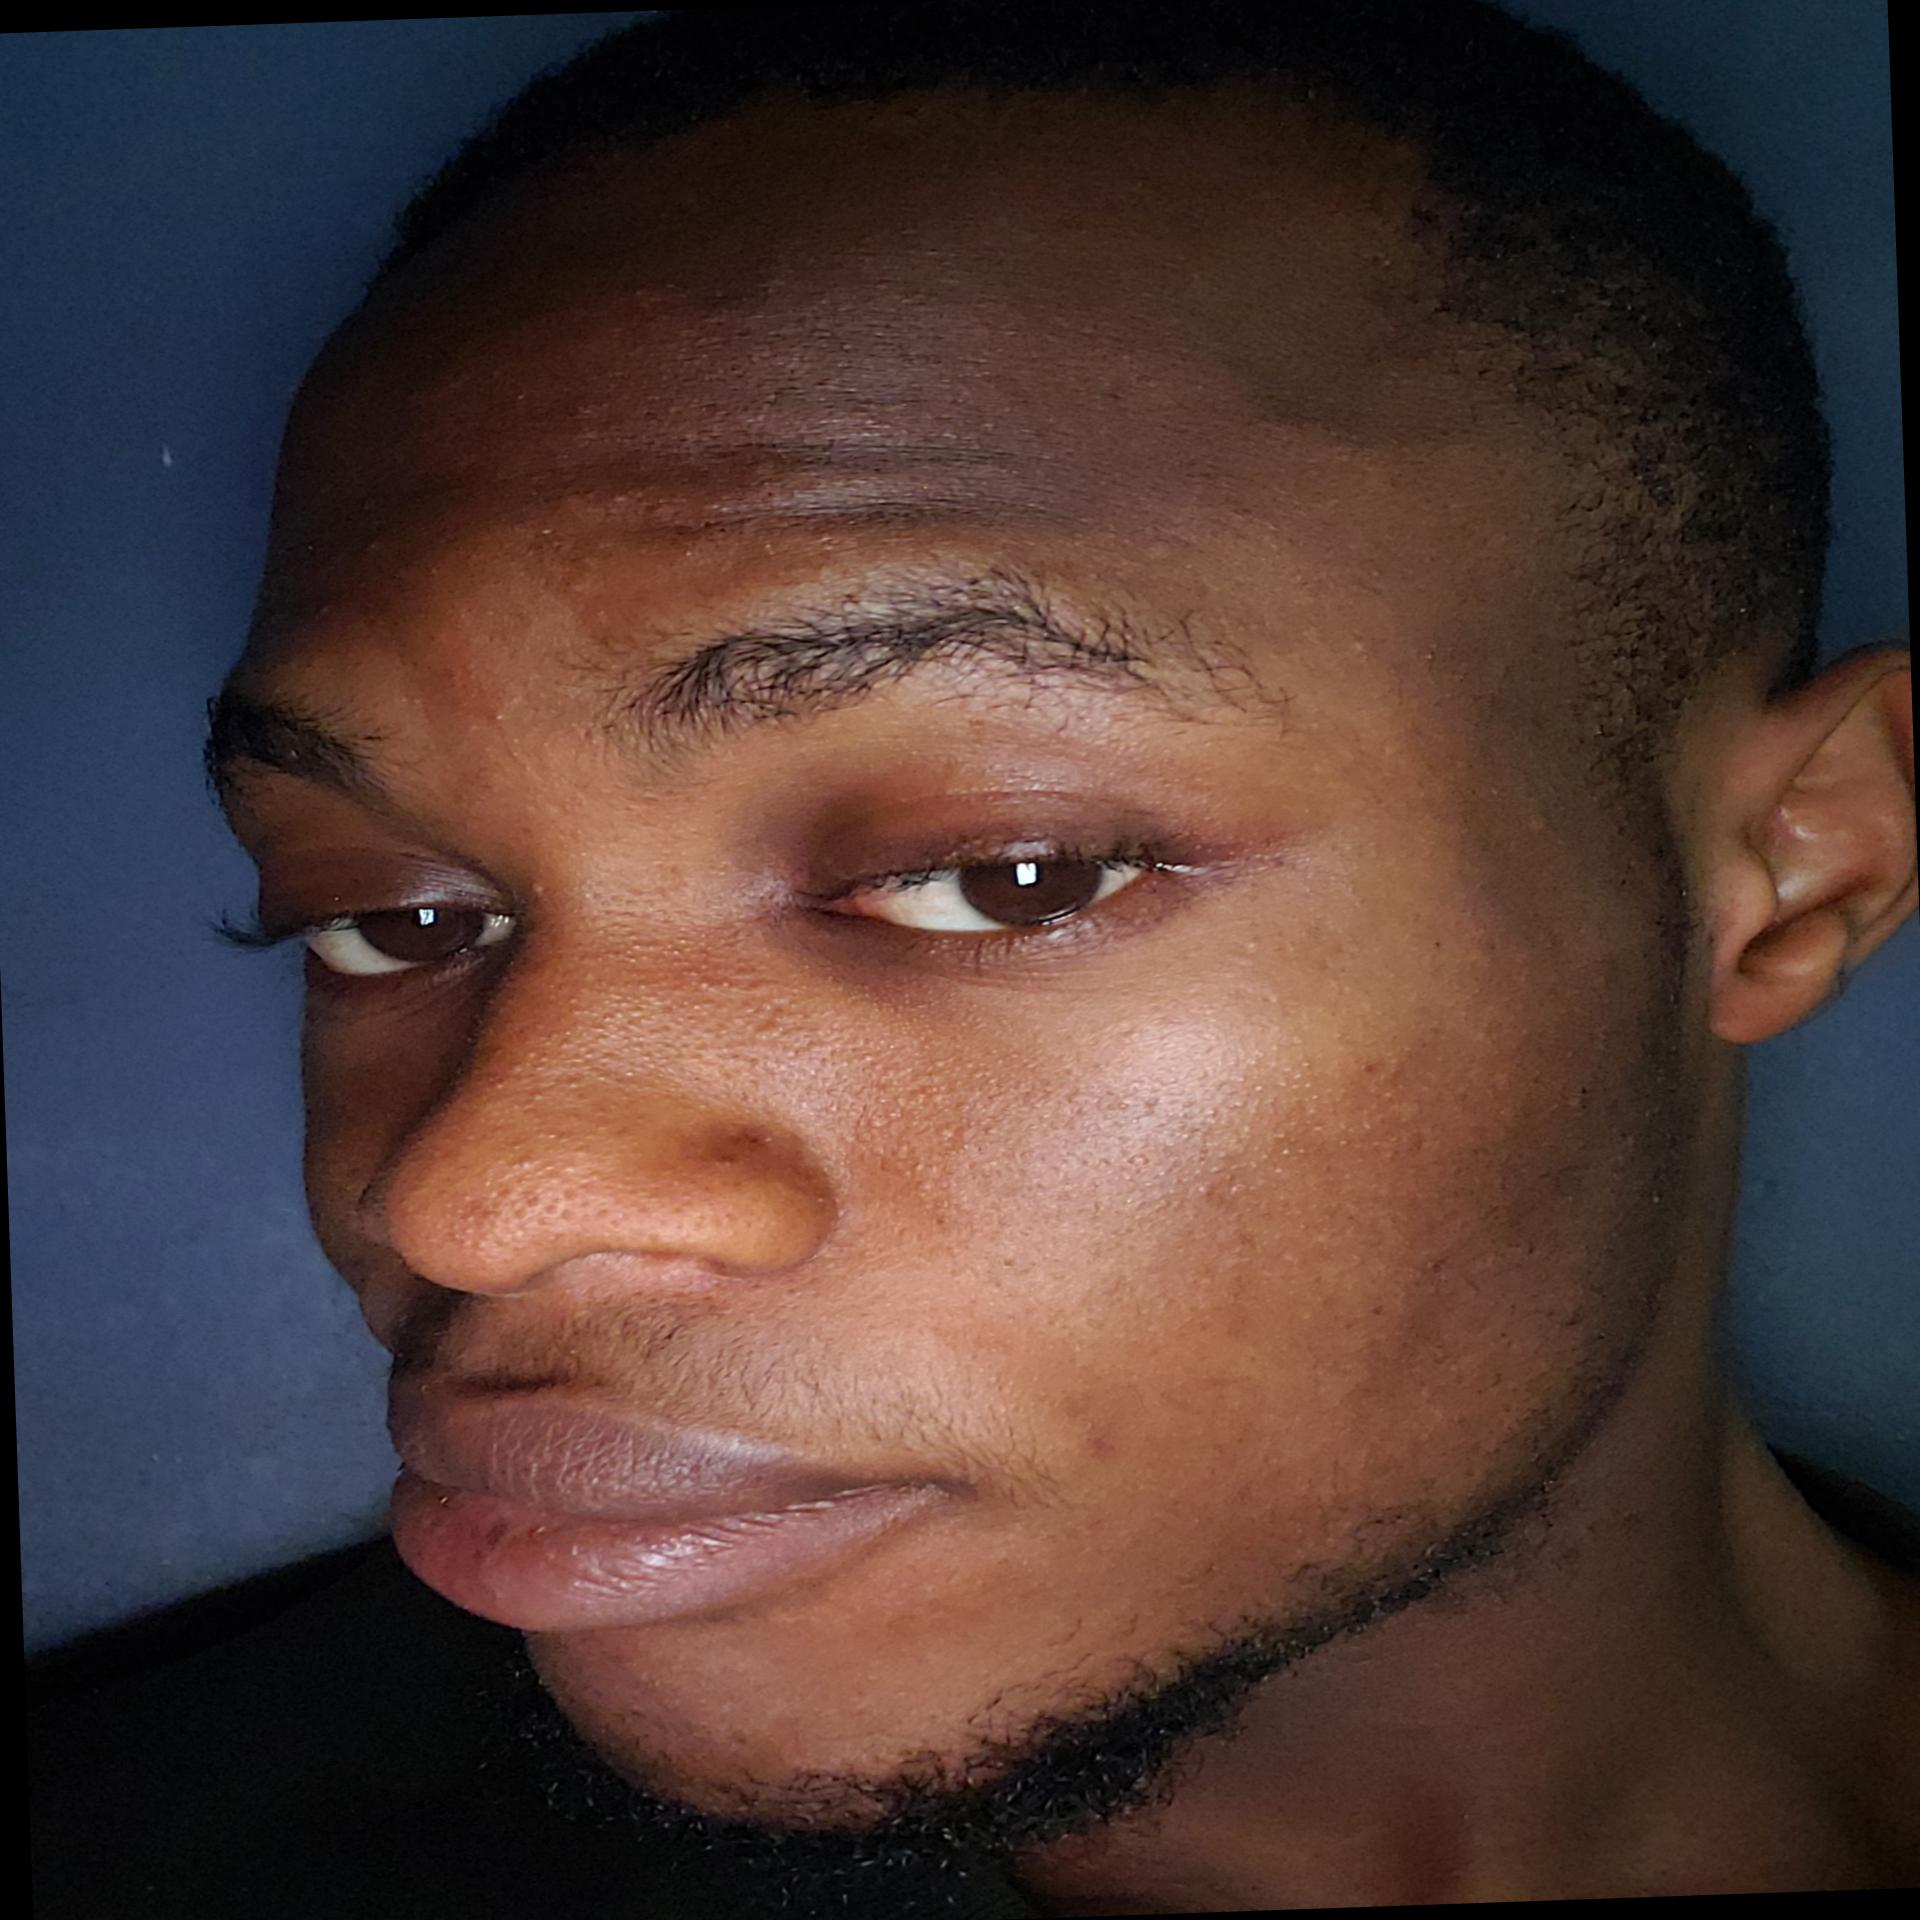Acne: (1496, 795, 1568, 844), (1343, 1043, 1393, 1090), (1078, 1421, 1131, 1465), (469, 693, 526, 733), (1134, 526, 1185, 563), (1336, 626, 1391, 659), (515, 869, 554, 907), (425, 652, 471, 684)
Englarged Pores: (777, 995, 1016, 1194), (434, 1025, 607, 1264), (1009, 1083, 1261, 1213), (594, 939, 788, 1106), (677, 308, 918, 415)
Wrinkles: (584, 427, 1037, 471), (651, 484, 1027, 536)
